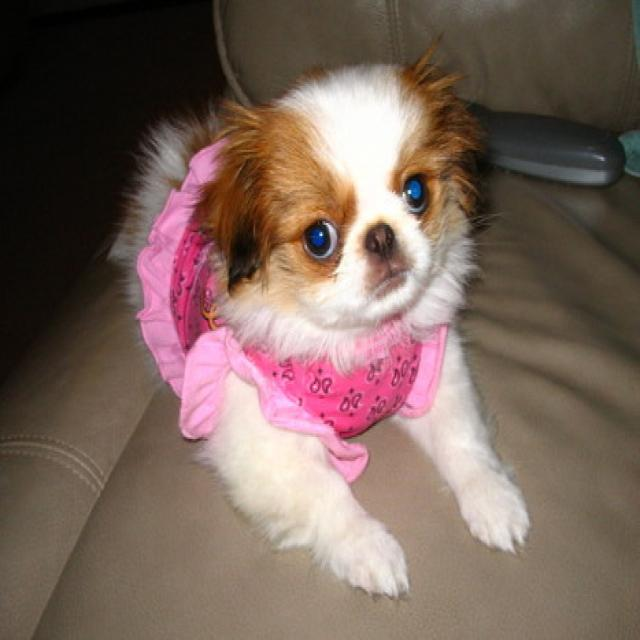dog-japanese_chin: (101, 27, 540, 567)
